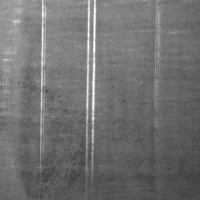scratches: (83, 0, 99, 190), (37, 0, 49, 184), (152, 2, 163, 143)
